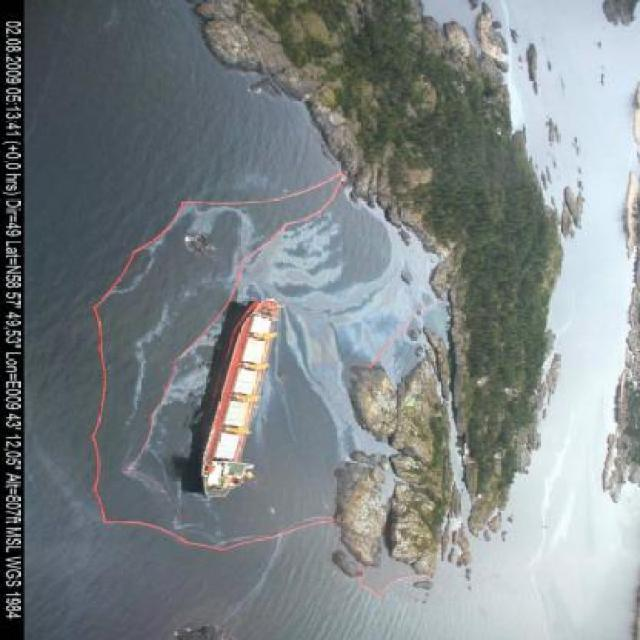sheen: (248, 191, 438, 458)
